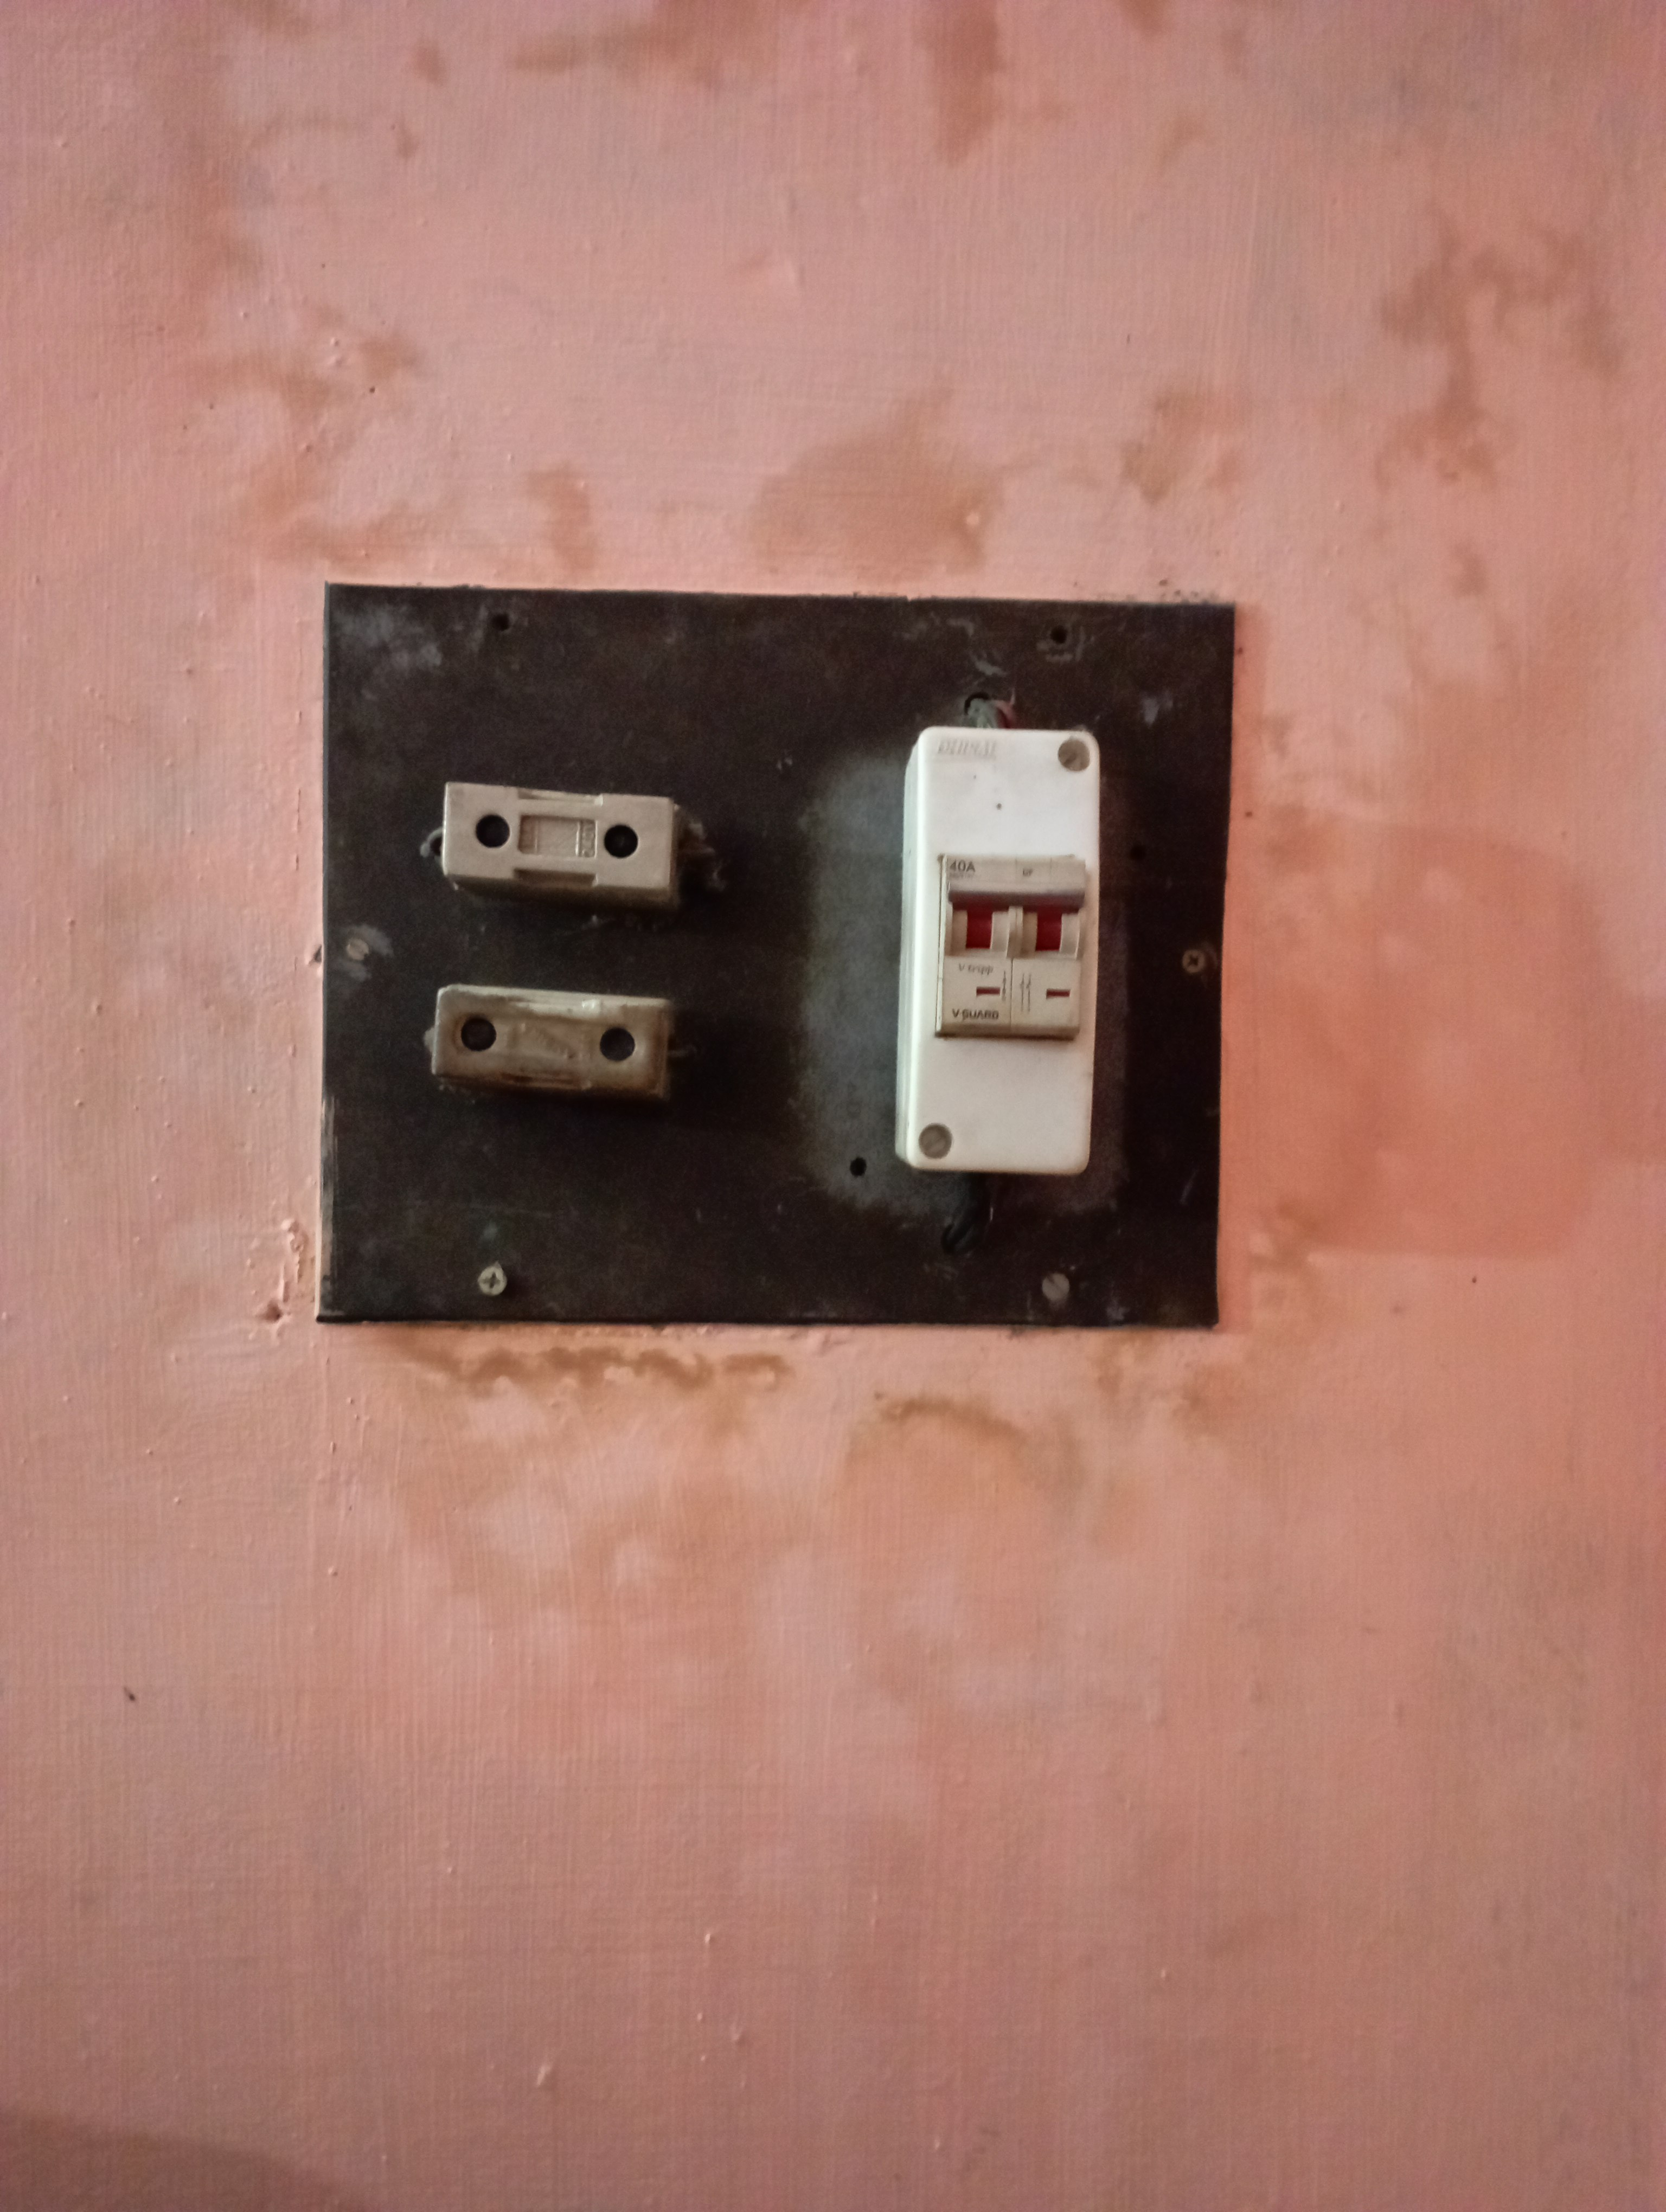ciruit_breaker: (891, 736, 1097, 1180)
fuse: (424, 780, 691, 916), (415, 983, 670, 1105)
